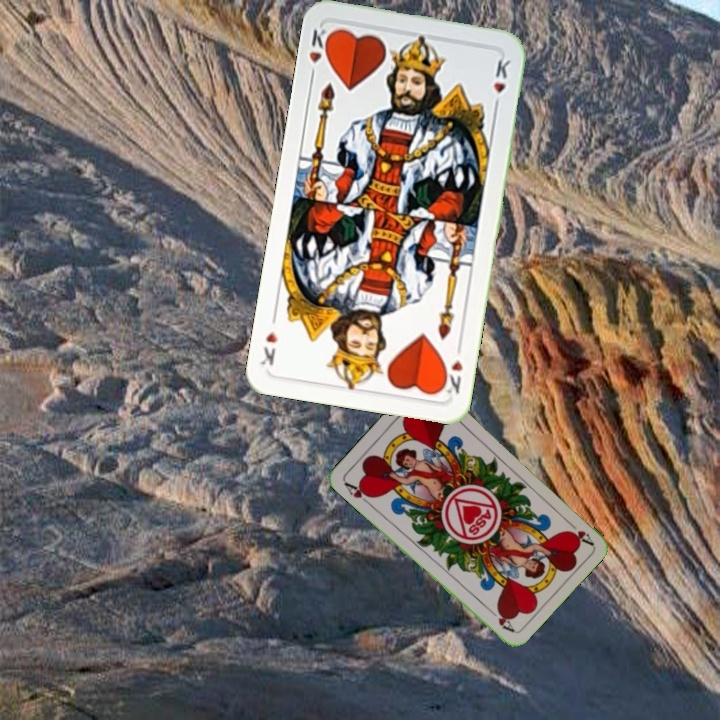HA: (562, 515, 595, 548), (340, 478, 375, 509)
HK: (437, 340, 466, 398), (305, 23, 335, 66)
